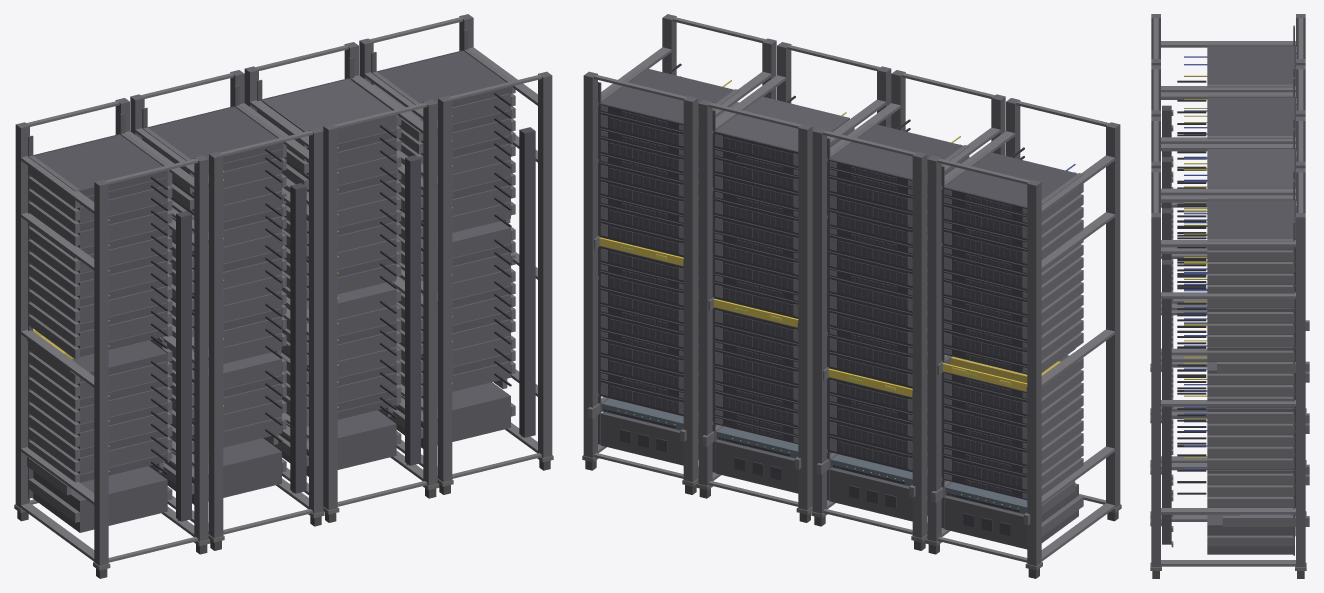
Rendered from dciem-rack.glb.
3 views of the same model, side by side, from view 1: azimuth 30°, elevation 25°; view 2: azimuth 150°, elevation 25°; view 3: azimuth 270°, elevation 25° (orthographic). The views are drawn at different scales.
Visible parts, largest first — view 1: n1080, n2, n560, n1614, n561, n3, n1081, n1615, n1640, n586, n28, n1106 (+84 smaller); view 2: n1078, n0, n558, n1612, n559, n1079, n1613, n1, n2, n540, n1590, n2128 (+26 smaller); view 3: n1613, n1615, n1590, n540, n2128, n1060, n1640, n1660, n1093, n2109, n1708, n1792 (+74 smaller).
Part boxes in pixels (box(x1,y1,x2,y2)): n1080: box(323, 124, 337, 510); n2: box(94, 180, 108, 565); n560: box(209, 152, 223, 538); n1614: box(438, 96, 452, 482); n561: box(309, 127, 323, 513); n3: box(194, 155, 208, 541); n1081: box(423, 99, 437, 485); n1615: box(538, 71, 552, 457); n1640: box(519, 127, 535, 437); n586: box(290, 183, 306, 493); n28: box(176, 211, 191, 521); n1106: box(405, 155, 420, 465); n1078: box(798, 124, 812, 510); n0: box(1027, 180, 1041, 565); n558: box(912, 152, 926, 538); n1612: box(683, 96, 697, 482); n559: box(812, 127, 826, 513); n1079: box(698, 99, 712, 485); n1613: box(583, 71, 597, 457); n1: box(927, 155, 941, 541); n2: box(1106, 122, 1120, 508); n540: box(944, 152, 1077, 207); n1590: box(715, 96, 849, 151); n2128: box(601, 68, 734, 123); n1613: box(1296, 213, 1305, 566); n1615: box(1151, 213, 1160, 566); n1590: box(1207, 149, 1294, 188); n540: box(1207, 46, 1294, 84); n2128: box(1207, 200, 1294, 238); n1060: box(1207, 97, 1294, 135); n1640: box(1162, 260, 1171, 544); n1660: box(1207, 514, 1293, 554); n1093: box(1161, 188, 1295, 195); n2109: box(1207, 250, 1294, 261); n1708: box(1207, 496, 1294, 507); n1792: box(1207, 446, 1294, 457).
Size of the model in its own units: 2.5 by 2.07 by 0.825.
